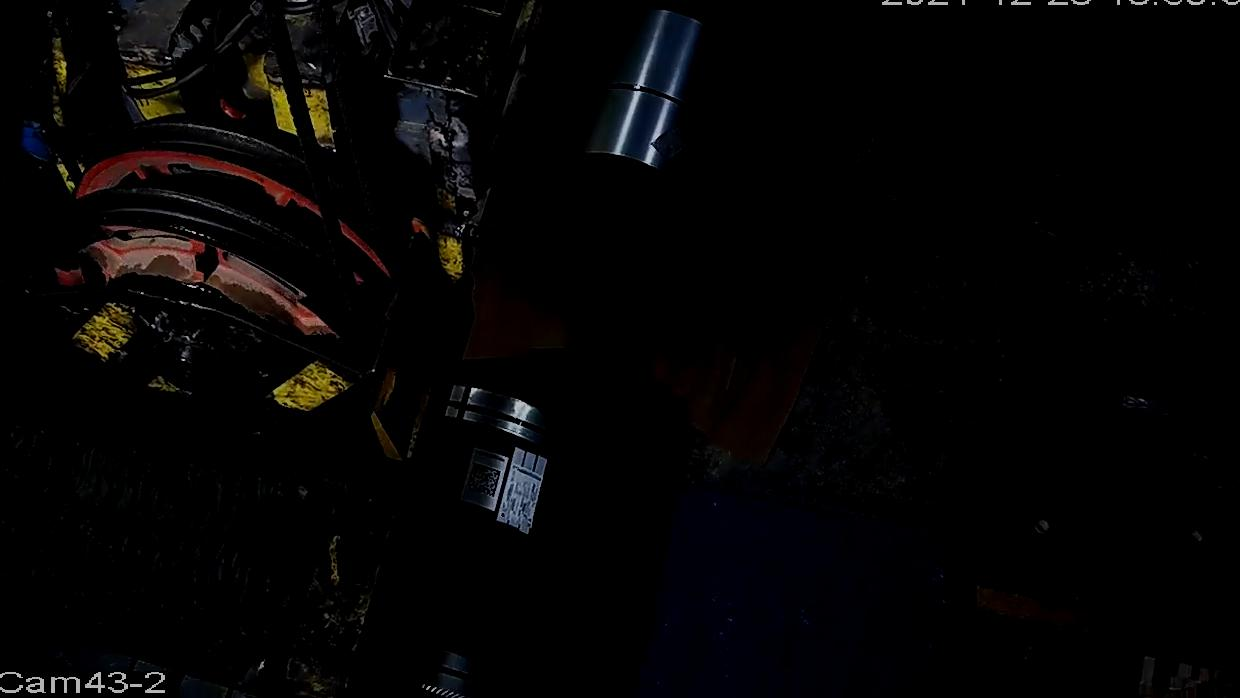data matrix: (464, 459, 504, 500)
